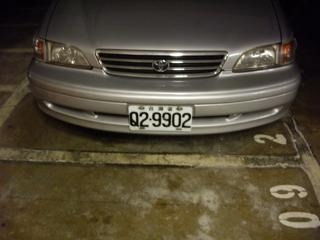plate: (127, 102, 195, 133)
